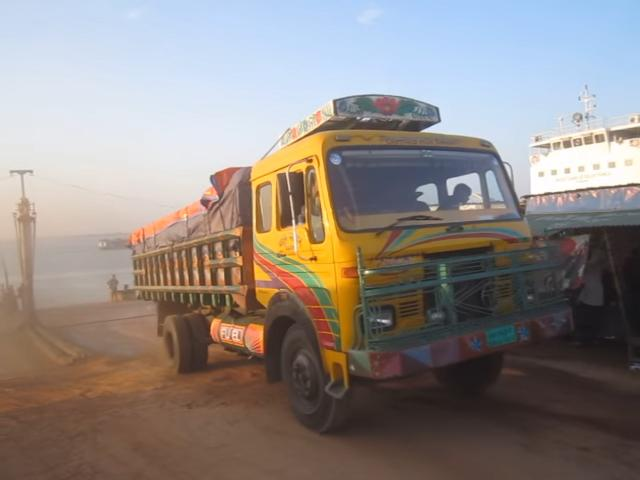truck: (128, 46, 582, 438)
